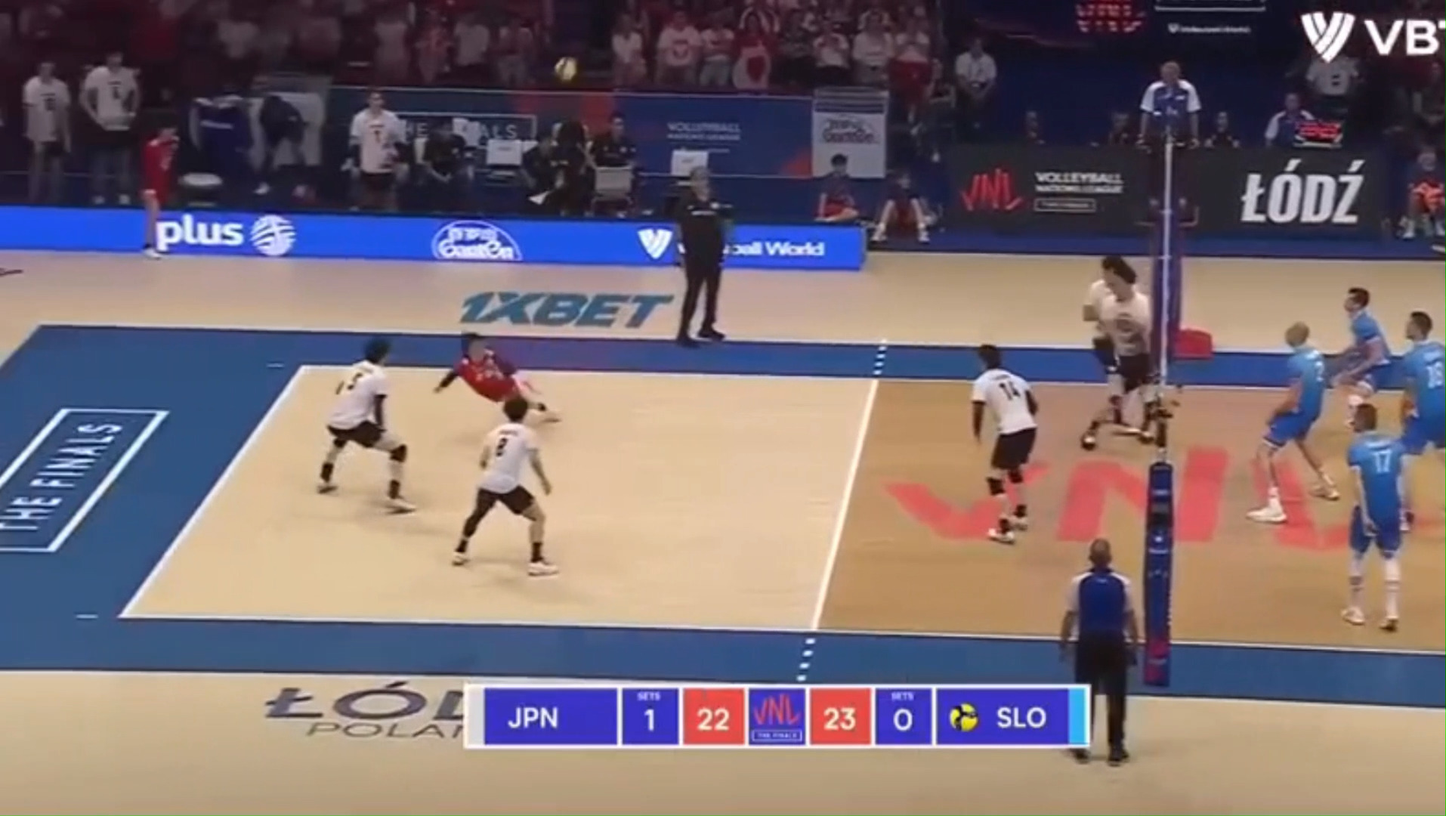ball: (553, 56, 578, 83)
player: (1247, 321, 1338, 524), (1342, 403, 1404, 631), (1333, 286, 1392, 410), (1401, 311, 1445, 456)
player 1: (453, 397, 556, 576), (317, 338, 414, 513), (1080, 258, 1160, 450), (972, 345, 1037, 543), (435, 333, 555, 420), (1082, 258, 1111, 353)
referee: (1059, 539, 1138, 764), (1136, 61, 1201, 226), (675, 168, 731, 347)
